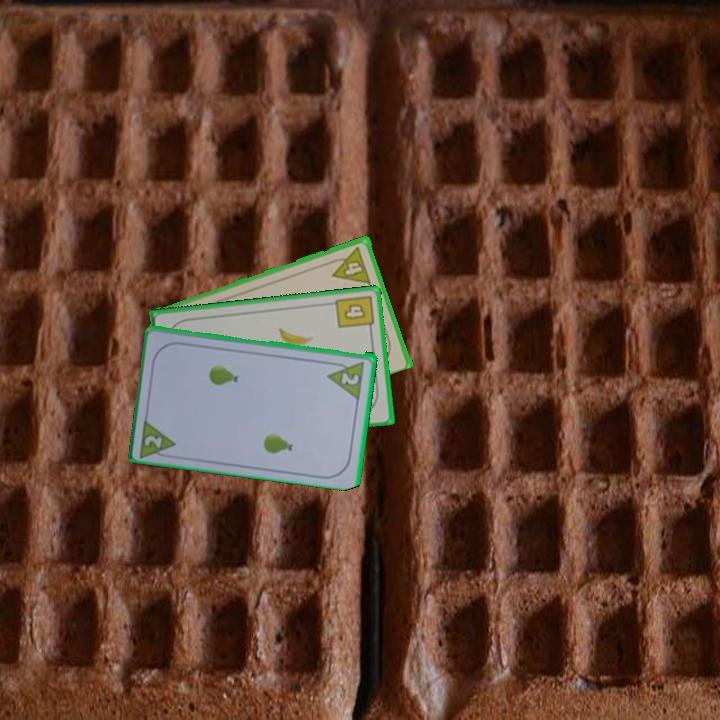2p: (325, 357, 368, 400), (141, 431, 165, 450)
4b: (332, 291, 376, 335)
4p: (326, 243, 373, 286)
